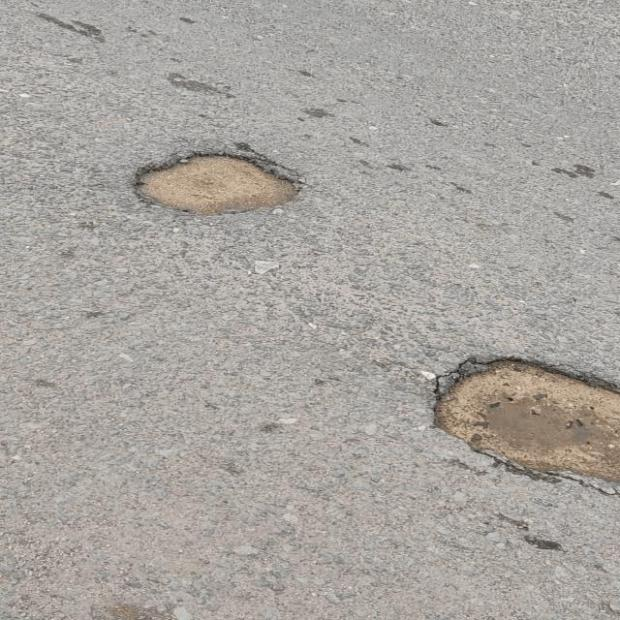lubang: (435, 358, 619, 494), (133, 147, 300, 214)
